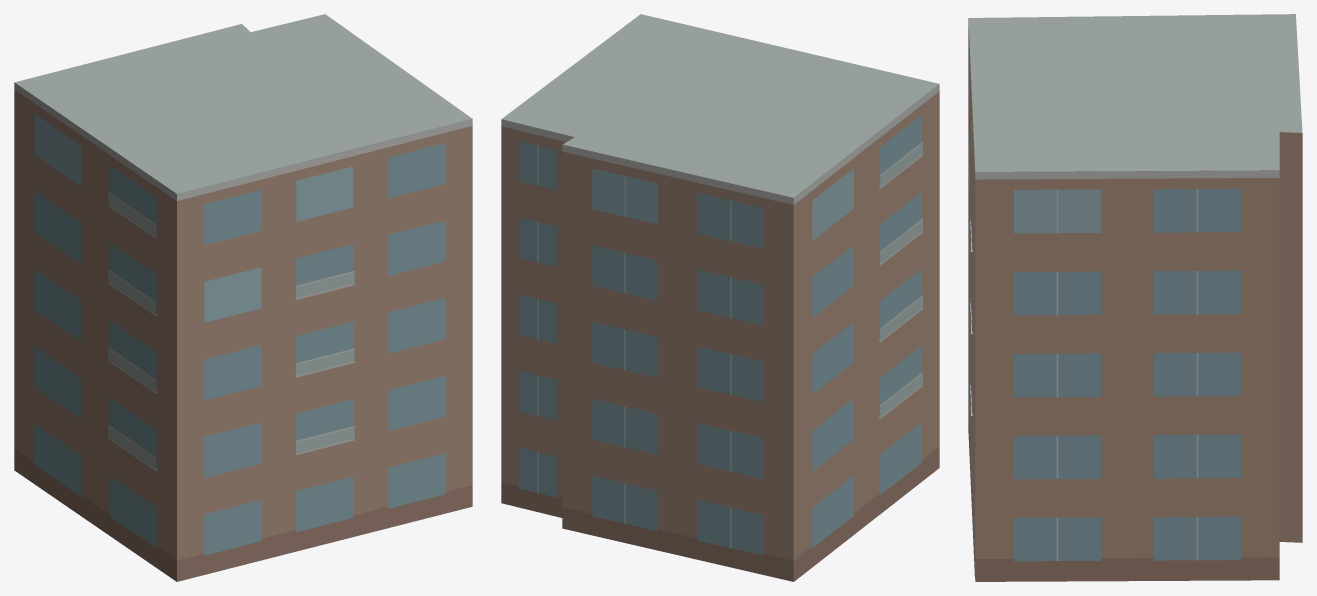
File: survey-upis-32970517.glb
The picture shows the model from 3 angles, left to right: view 1: azimuth 30°, elevation 25°; view 2: azimuth 150°, elevation 25°; view 3: azimuth 270°, elevation 25°; orthographic projection. The views are drawn at different scales.
Parts seen in each view (by area): view 1: survey-upis-32970517.tmp; view 2: survey-upis-32970517.tmp; view 3: survey-upis-32970517.tmp.
Boxes of the visible parts, <box> form: survey-upis-32970517.tmp: <box>14,14,472,581</box>; survey-upis-32970517.tmp: <box>501,14,939,581</box>; survey-upis-32970517.tmp: <box>968,14,1302,581</box>.
Bounding box in the file's own units: 10.96 × 13.25 × 9.8.
